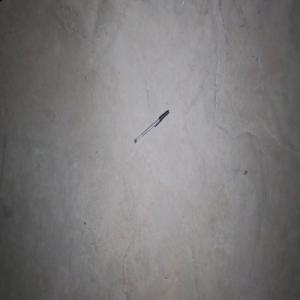Pen: (134, 109, 169, 143)
